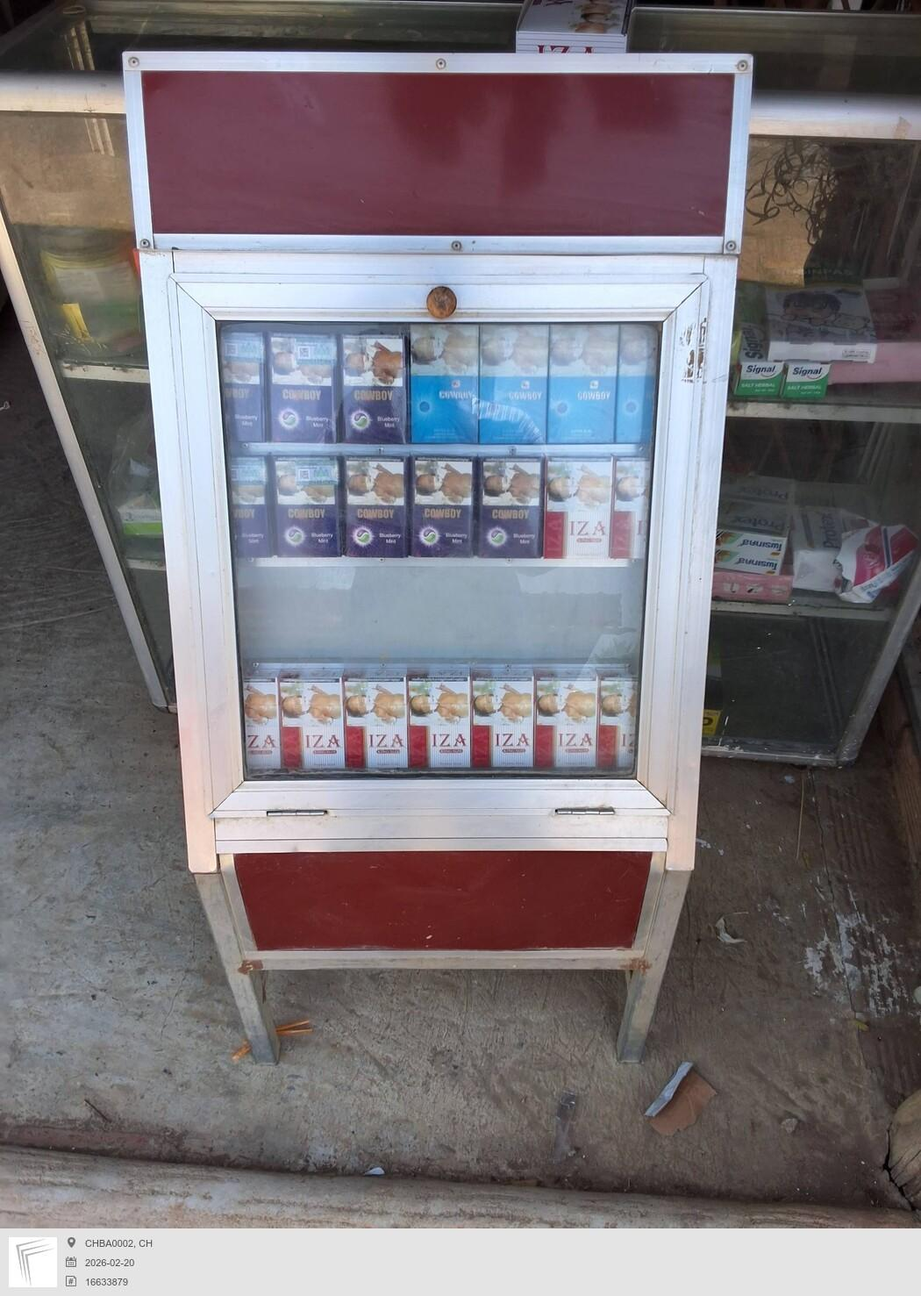cigarette_pack: (400, 328, 479, 444), (481, 323, 551, 453), (533, 460, 621, 560), (547, 326, 616, 446), (333, 677, 416, 776), (474, 462, 553, 558), (337, 332, 407, 439), (267, 337, 337, 439), (610, 451, 661, 579), (221, 679, 282, 786), (535, 681, 603, 776), (282, 676, 344, 777), (212, 335, 268, 442), (416, 684, 481, 776), (346, 455, 405, 555), (274, 446, 328, 555), (614, 330, 660, 446), (411, 463, 470, 551), (474, 681, 533, 767), (600, 677, 653, 770), (219, 463, 268, 551)
